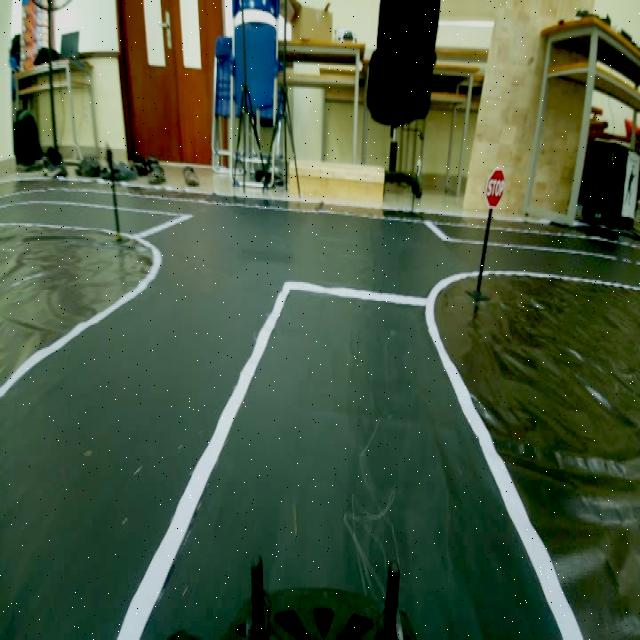stop: (483, 165, 509, 214)
